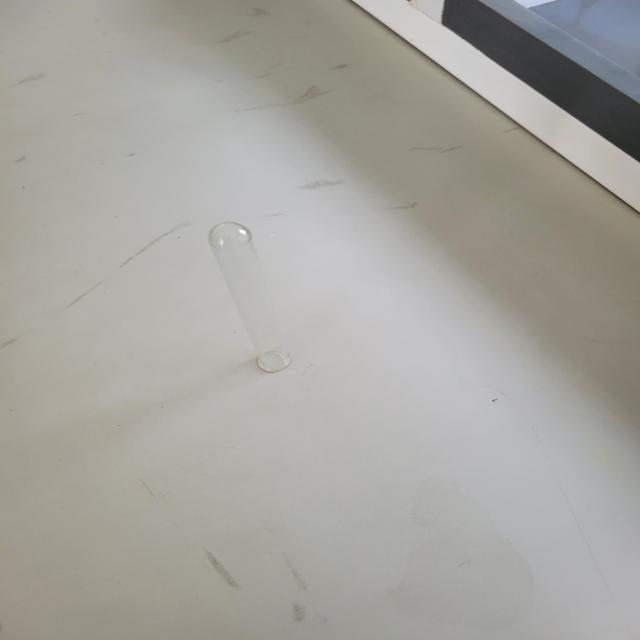Test_Tube: (176, 191, 331, 404)
